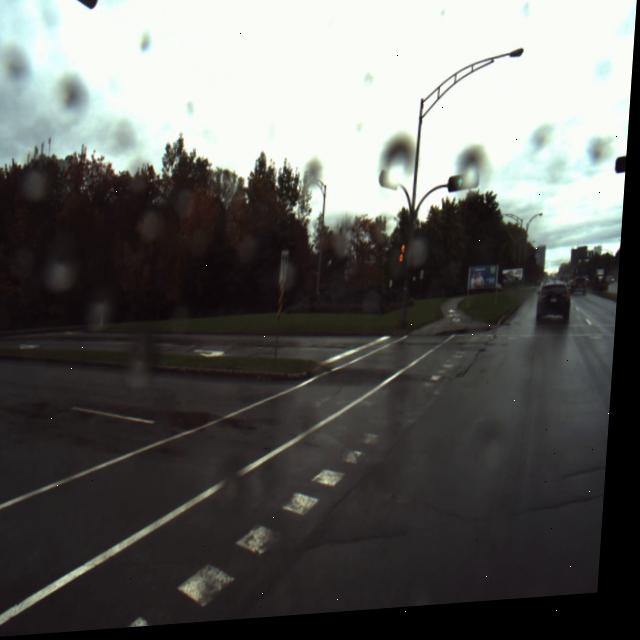car: (541, 288, 577, 336), (575, 285, 592, 307), (610, 284, 619, 294)
trafficLight: (401, 249, 411, 273)
trafficLight-Green: (456, 183, 470, 197), (624, 164, 629, 183)
